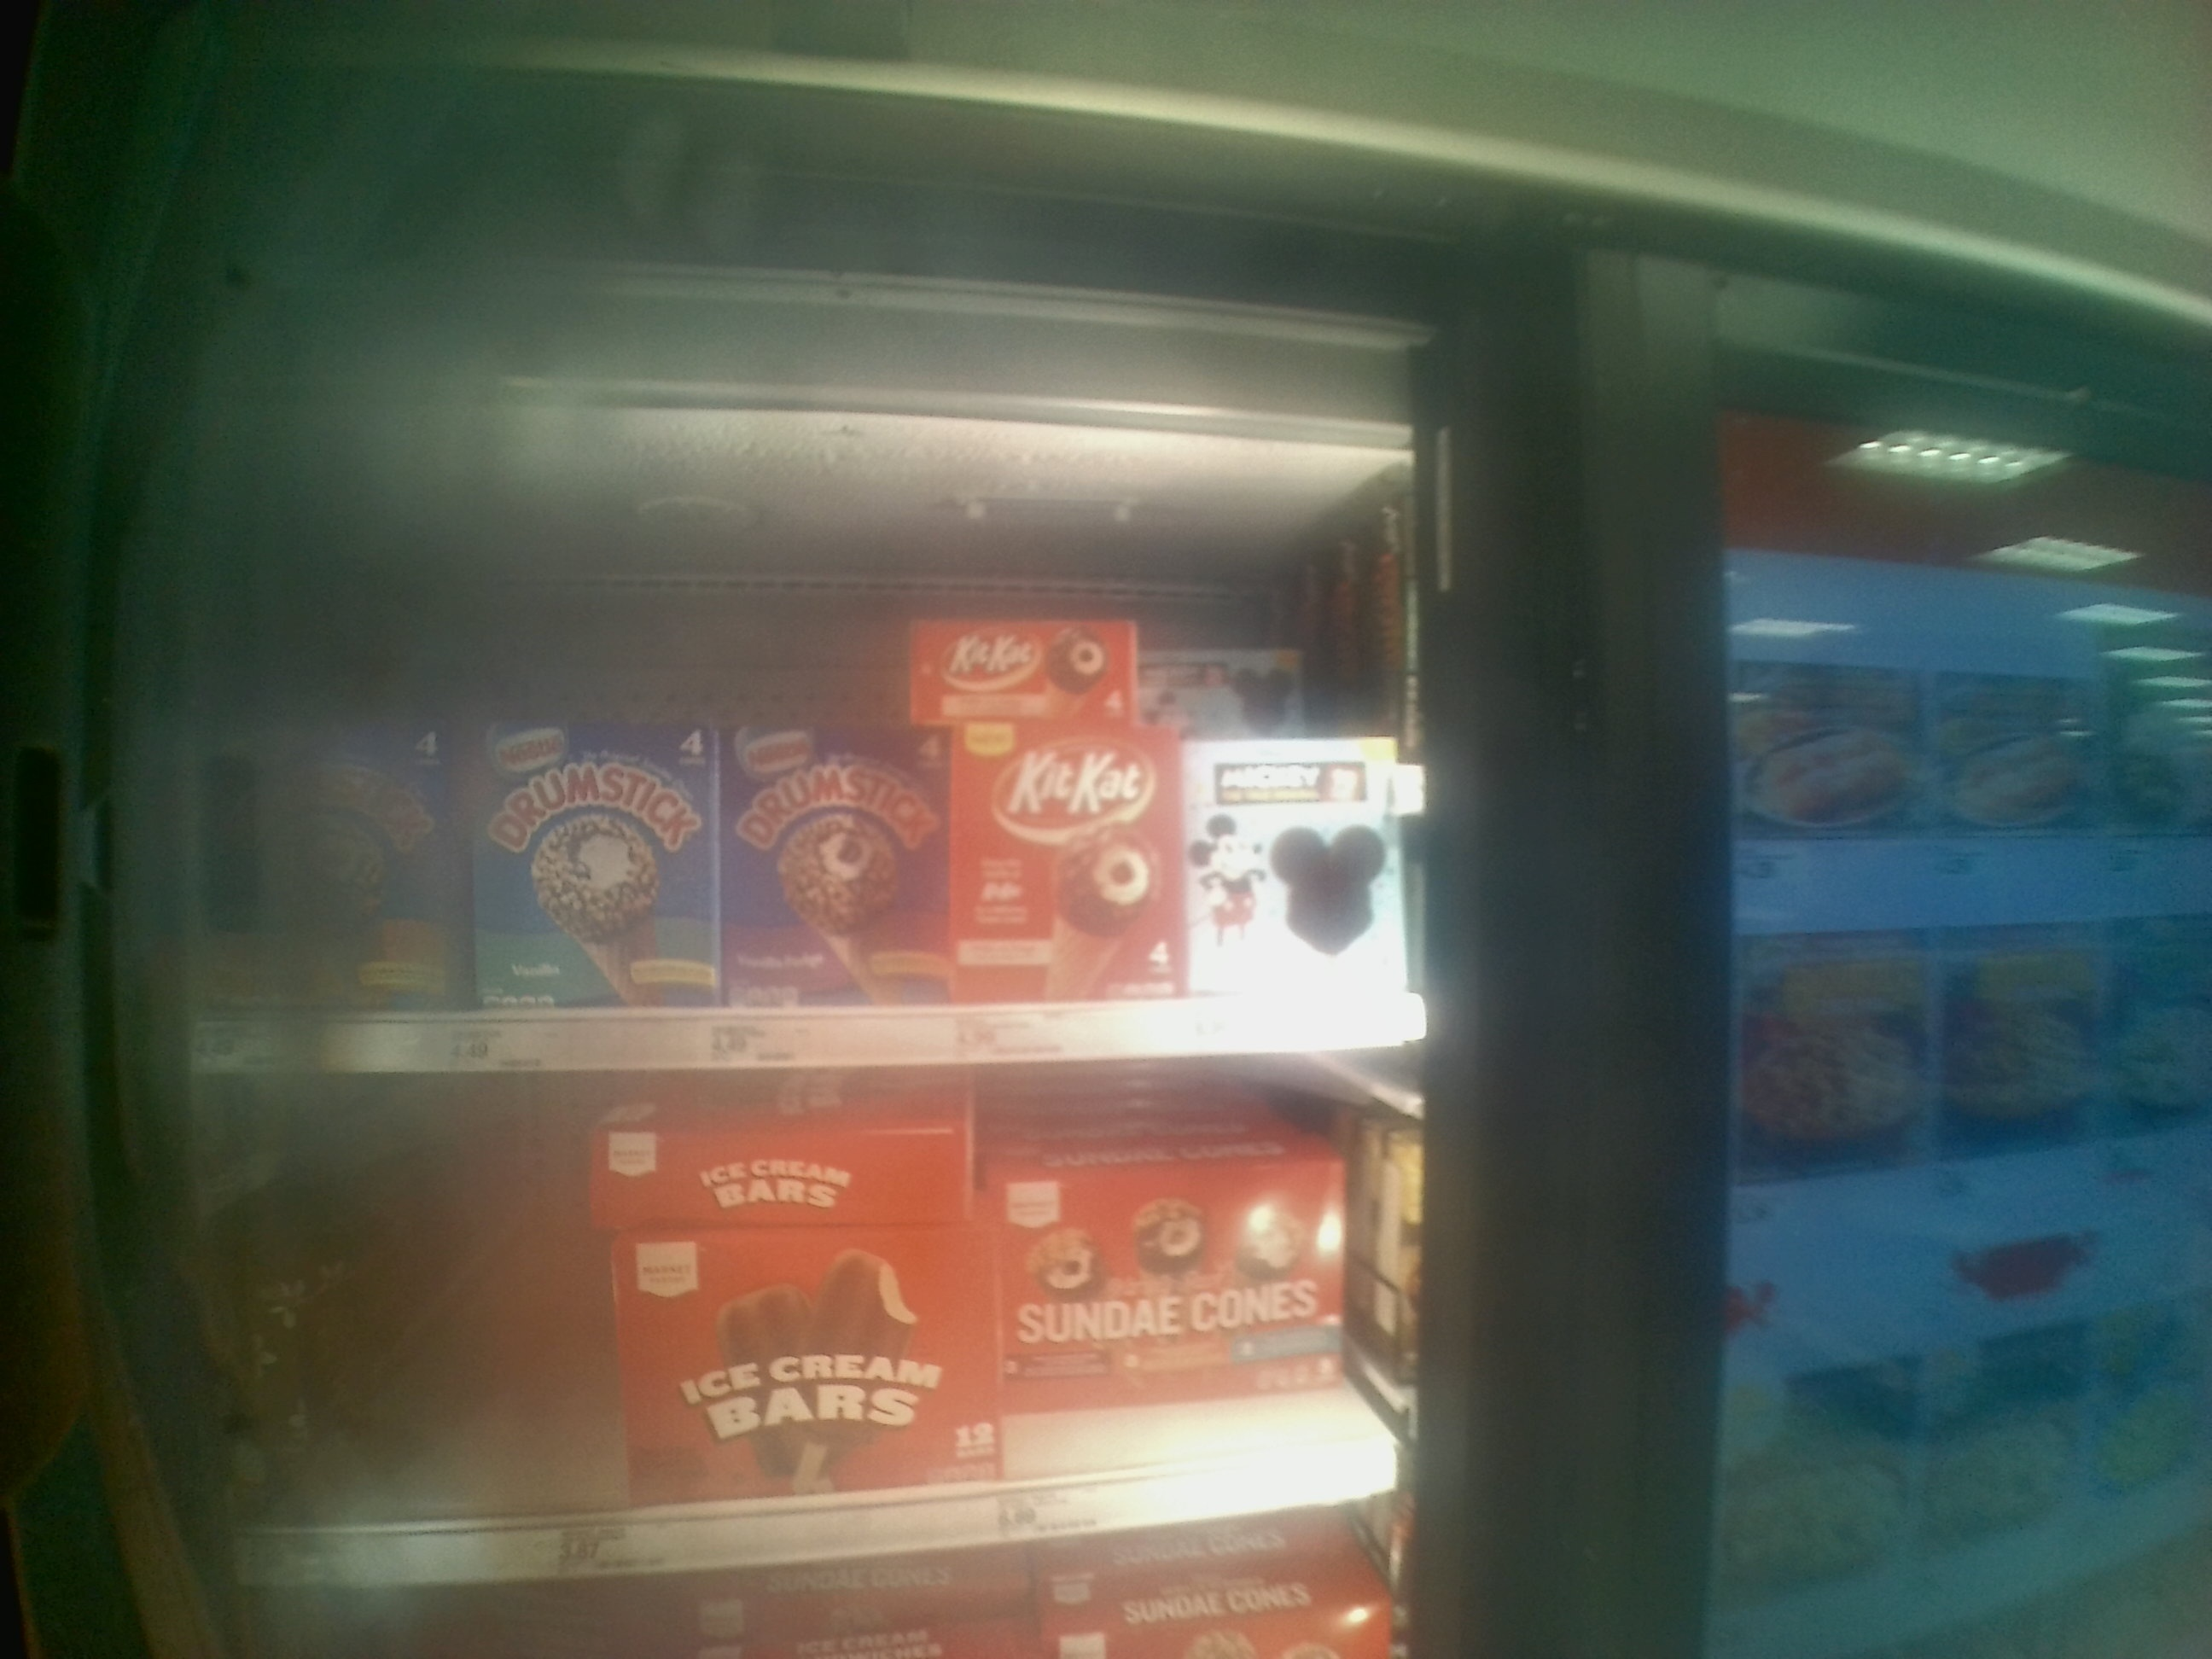shelf: (172, 528, 1444, 1070), (176, 1073, 1447, 1593)
